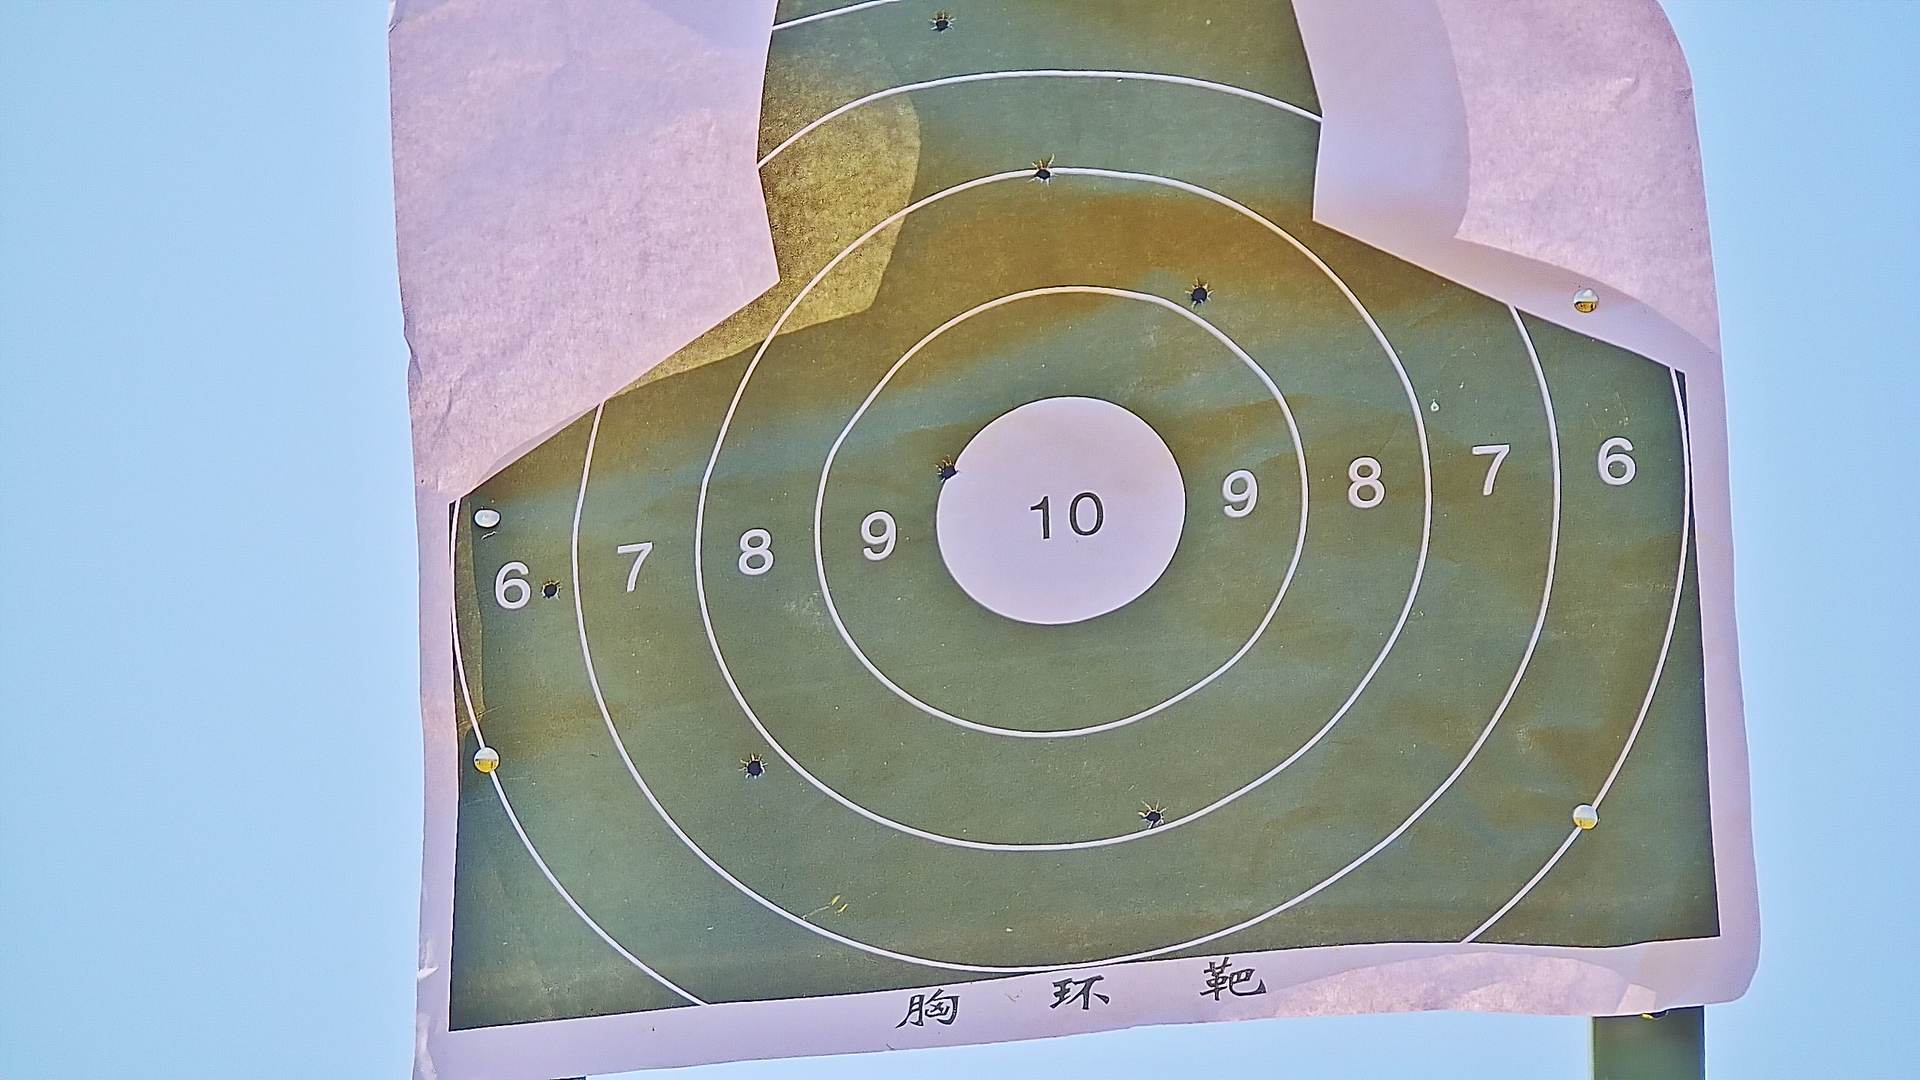hole: (741, 752, 761, 781), (1139, 806, 1162, 825), (1189, 280, 1208, 303), (541, 578, 562, 597), (939, 462, 955, 479), (932, 16, 949, 30), (1036, 164, 1050, 179)
kernel: (1054, 516, 1065, 520)
target: (446, 1, 1734, 1036)
ten: (934, 396, 1185, 626)
